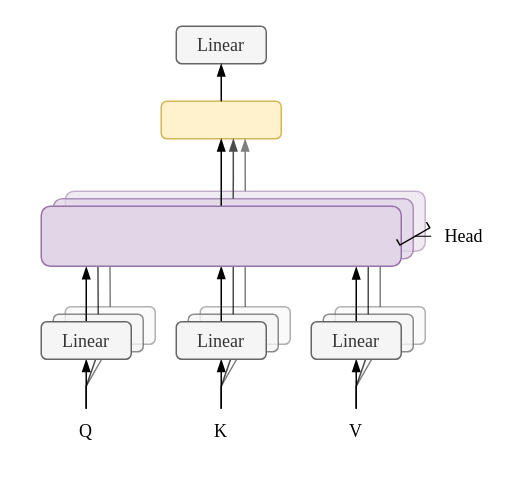
The diagram is 519 pixels wide and 480 high, and some of its shapes have lost their labels. Each missing label, with the centre of its shape:
Attention: pixel 220 235
Concat: pixel 220 119
